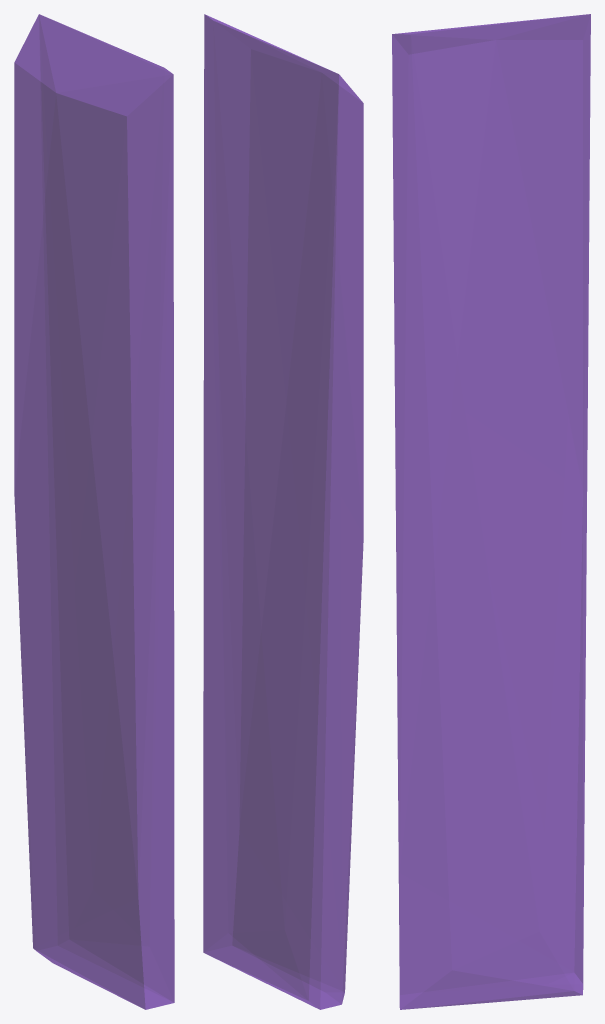
3 renders of one model, left to right at view 1: azimuth 30°, elevation 25°; view 2: azimuth 210°, elevation 25°; view 3: azimuth 270°, elevation 25°, orthographic. The views are drawn at different scales.
Visible parts, largest first — view 1: Shape_IndexedFaceSet.022_Shape_IndexedFaceSet.12344; view 2: Shape_IndexedFaceSet.022_Shape_IndexedFaceSet.12344; view 3: Shape_IndexedFaceSet.022_Shape_IndexedFaceSet.12344.
Part boxes in pixels (<box>): Shape_IndexedFaceSet.022_Shape_IndexedFaceSet.12344: <box>14,14,174,1009</box>; Shape_IndexedFaceSet.022_Shape_IndexedFaceSet.12344: <box>203,14,363,1009</box>; Shape_IndexedFaceSet.022_Shape_IndexedFaceSet.12344: <box>392,14,590,1009</box>.
Bounding box in the file's own units: 0.0249 × 0.3067 × 0.0568.
